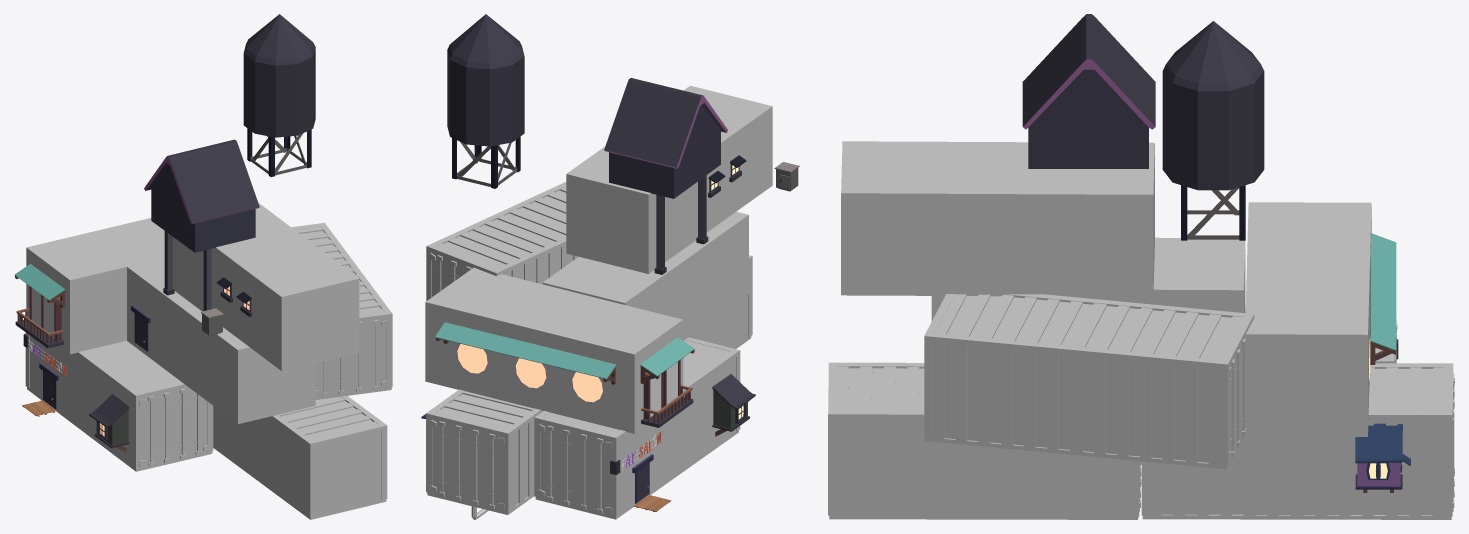
The model's file is CMF1HatSalon.fbx.
3 renders of one model, left to right at view 1: azimuth 30°, elevation 25°; view 2: azimuth 150°, elevation 25°; view 3: azimuth 270°, elevation 25°, orthographic. The views are drawn at different scales.
Visible parts, largest first — view 1: Crates.080, BoxCrate.032, BoxCrate.033, Crates.082, BoxCrate.093, BuildingTopper.003, WaterTank.003, BoxCrate.023, Balconet.011, BuildingAddons.006, Awning.102, Support.033 (+3 smaller); view 2: BoxCrate.093, Crates.080, BoxCrate.033, BoxCrate.034, Crates.082, BuildingTopper.003, WaterTank.003, BoxCrate.023, Awning.101, Windows.055, Balconet.011, BoxCrate.032 (+7 smaller); view 3: BoxCrate.023, Crates.080, BoxCrate.032, BoxCrate.093, BoxCrate.034, WaterTank.003, BuildingTopper.003, Crates.082, Awning.101, BuildingAddons.008.
Boxes of the visible parts, x1,y1,x2,y2 form: Crates.080: (173, 203, 359, 370); BoxCrate.032: (213, 396, 387, 519); BoxCrate.033: (25, 332, 213, 471); Crates.082: (127, 257, 315, 424); BoxCrate.093: (26, 218, 164, 354); BuildingTopper.003: (144, 139, 259, 252); WaterTank.003: (243, 14, 315, 176); BoxCrate.023: (291, 223, 392, 399); Balconet.011: (15, 286, 63, 348); BuildingAddons.006: (89, 394, 129, 452); Awning.102: (14, 264, 65, 307); Support.033: (163, 231, 174, 295); BoxCrate.093: (425, 267, 683, 433); Crates.080: (566, 85, 772, 273); BoxCrate.033: (534, 337, 740, 519); BoxCrate.034: (426, 389, 542, 519); Crates.082: (542, 211, 748, 340); BuildingTopper.003: (604, 78, 727, 198); WaterTank.003: (447, 14, 524, 188); BoxCrate.023: (426, 182, 578, 300); Awning.101: (435, 322, 616, 384); Windows.055: (454, 343, 605, 405); Balconet.011: (641, 360, 693, 427); BoxCrate.032: (689, 255, 752, 348); BoxCrate.023: (924, 294, 1254, 469); Crates.080: (841, 141, 1154, 296); BoxCrate.032: (828, 362, 1141, 519); BoxCrate.093: (1245, 202, 1371, 436); BoxCrate.034: (1141, 363, 1454, 519); WaterTank.003: (1162, 21, 1264, 240); BuildingTopper.003: (1022, 14, 1155, 168); Crates.082: (931, 237, 1245, 320); Awning.101: (1370, 233, 1396, 364); BuildingAddons.008: (1355, 423, 1410, 492).
Bounding box in the file's own units: 3262 × 4672 × 4883.
